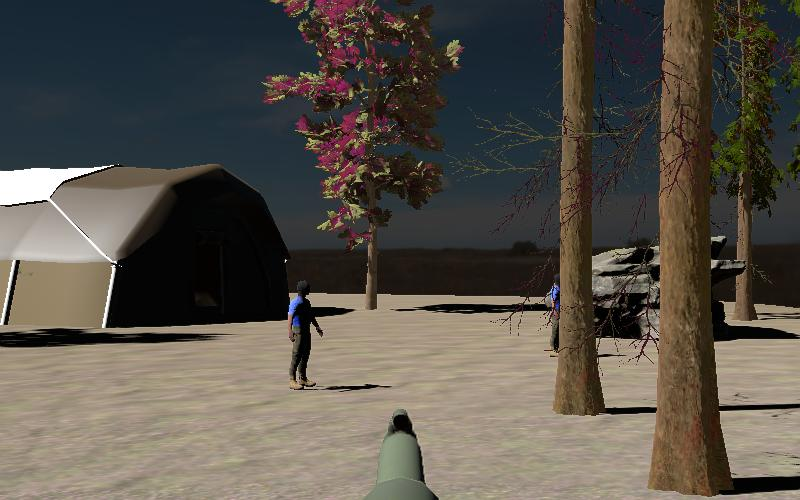Human: (286, 278, 326, 393), (544, 273, 564, 359)
